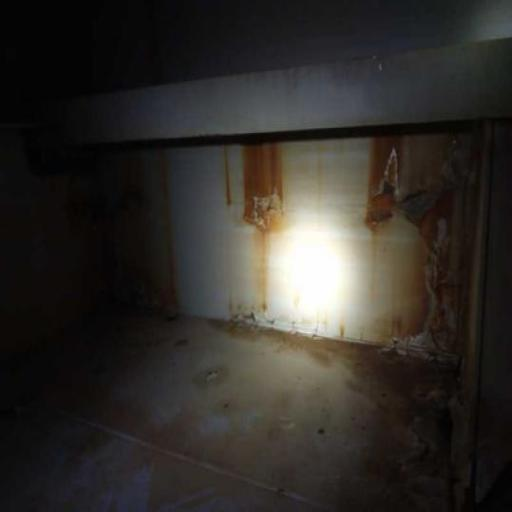Detect-rust-on-metal-surfaces: (363, 120, 497, 511), (74, 140, 179, 314), (241, 136, 295, 242), (218, 147, 236, 212)
